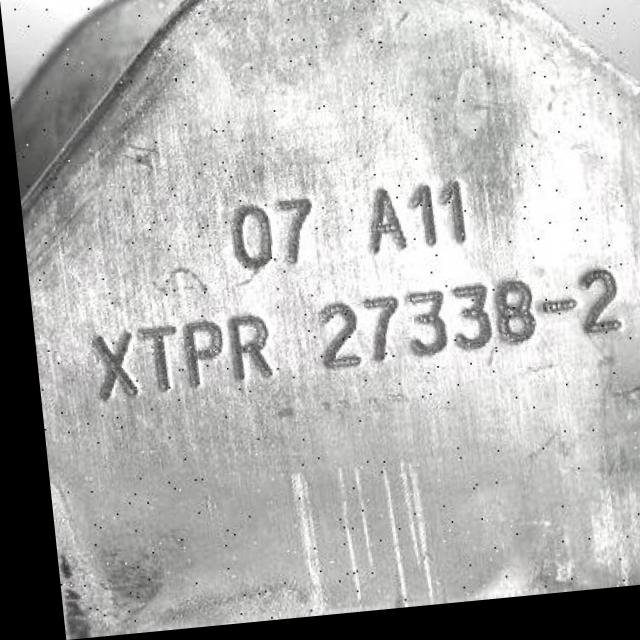ocr: (58, 172, 634, 433)
